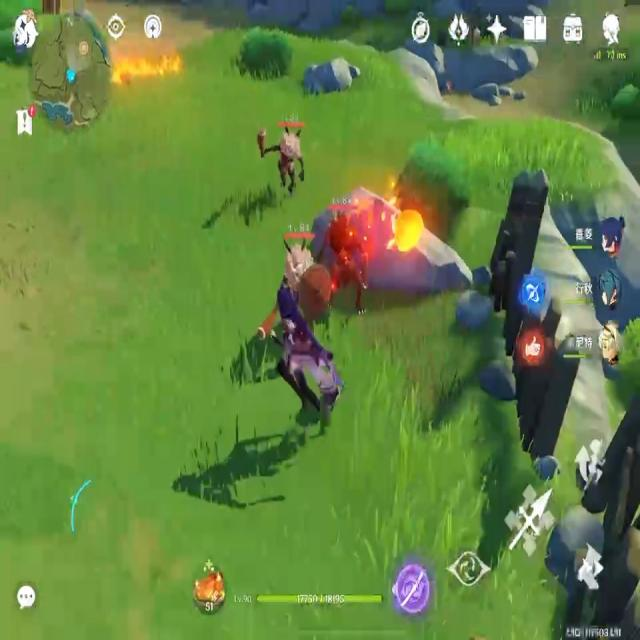genshin-hilichurls: (322, 196, 382, 308), (255, 100, 312, 196), (279, 231, 330, 307)
